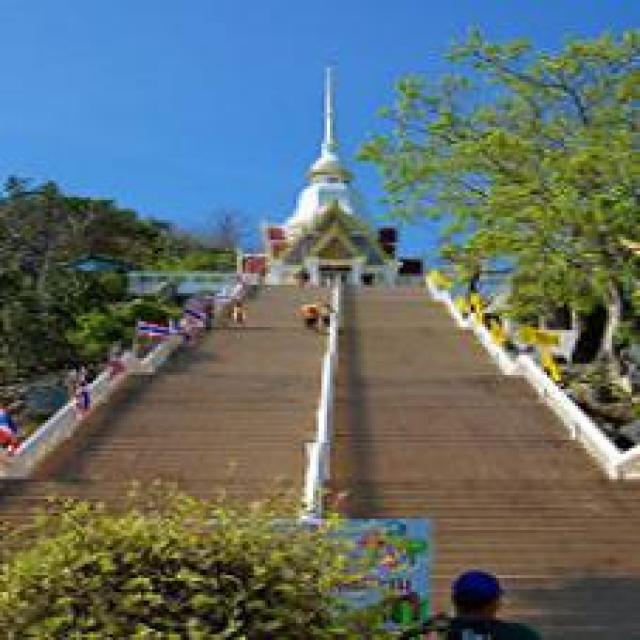upstair: (77, 376, 621, 503)
